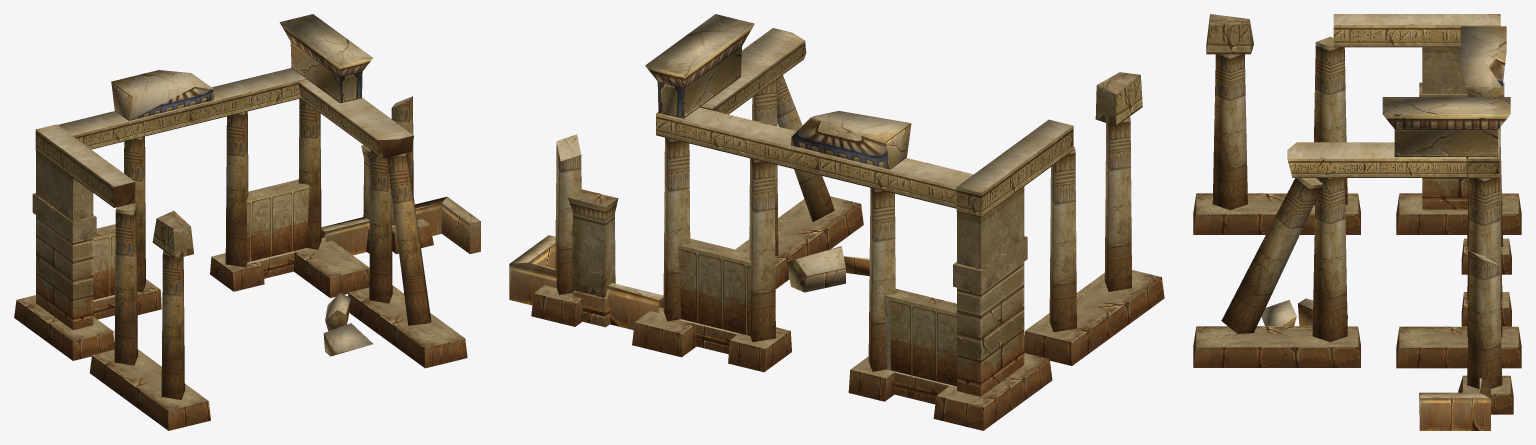
The model's file is Gobi_Ruins02.FBX.
3 views of the same model, side by side, from view 1: azimuth 30°, elevation 25°; view 2: azimuth 150°, elevation 25°; view 3: azimuth 270°, elevation 25° (orthographic). The views are drawn at different scales.
Visible parts, largest first — view 1: Gobi_Ruins02; view 2: Gobi_Ruins02; view 3: Gobi_Ruins02.
Boxes of the visible parts, bbox=[...] form: Gobi_Ruins02: bbox=[14, 14, 480, 430]; Gobi_Ruins02: bbox=[509, 14, 1164, 430]; Gobi_Ruins02: bbox=[1193, 14, 1521, 430].
Size of the model in its own units: 1582 by 856 by 1011.
